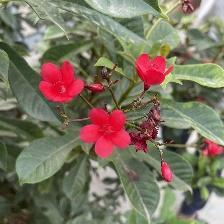jatropha: (83, 103, 135, 158), (39, 60, 82, 102), (131, 51, 172, 88)
